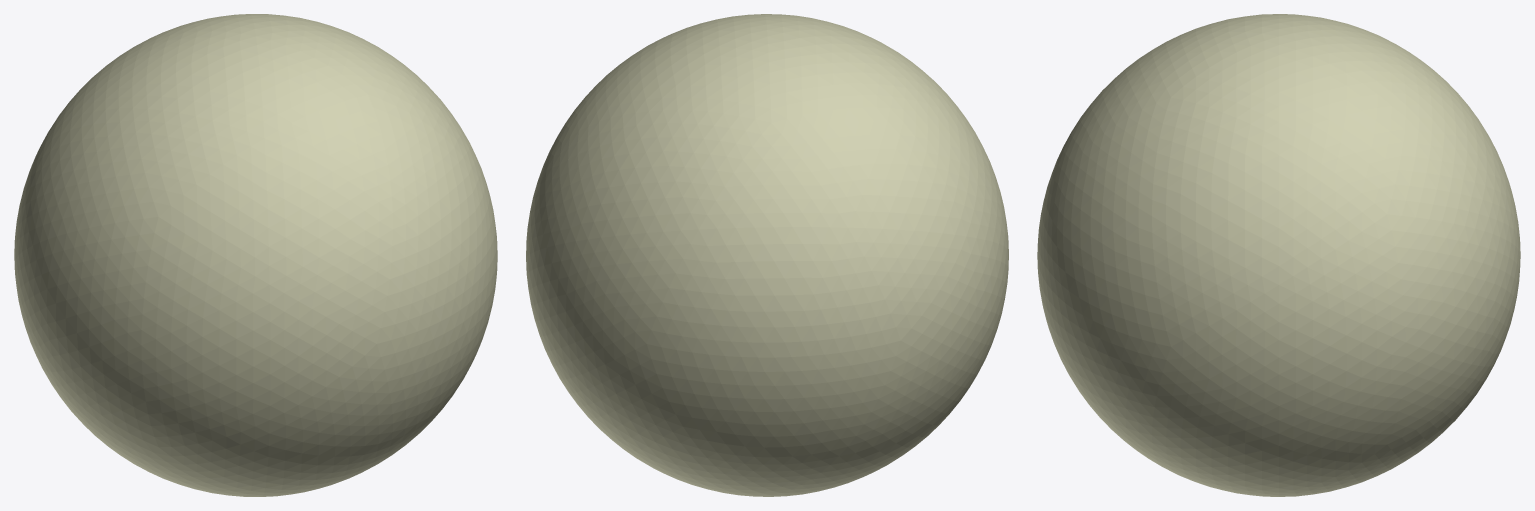
Rendered from ball.obj.
3 renders of one model, left to right at view 1: azimuth 30°, elevation 25°; view 2: azimuth 150°, elevation 25°; view 3: azimuth 270°, elevation 25°, orthographic.
Parts seen in each view (by area): view 1: Icosphere; view 2: Icosphere; view 3: Icosphere.
Part boxes in pixels (bbox=[...]): Icosphere: bbox=[14, 14, 497, 496]; Icosphere: bbox=[526, 14, 1008, 496]; Icosphere: bbox=[1037, 14, 1520, 496].
Bounding box in the file's own units: 0.061 × 0.061 × 0.061.
